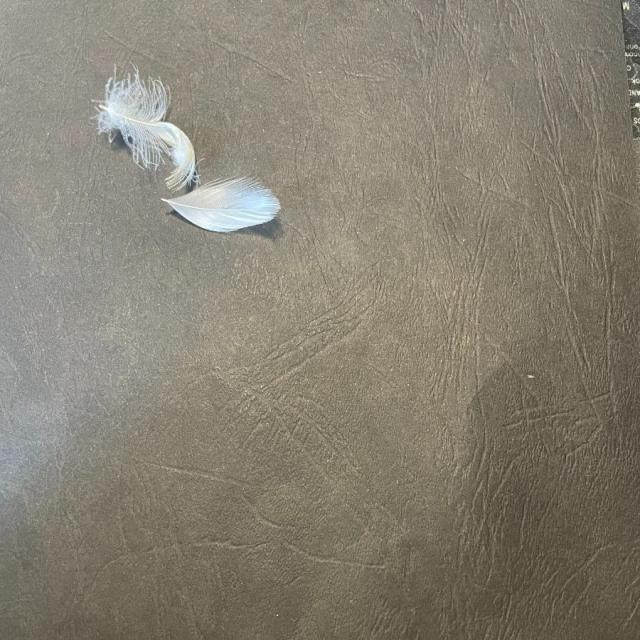feather: (92, 70, 195, 186), (161, 174, 282, 236)
